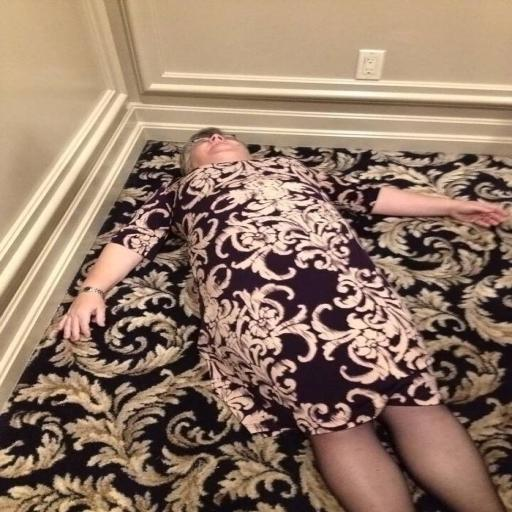crosswalk: (58, 127, 507, 512)
